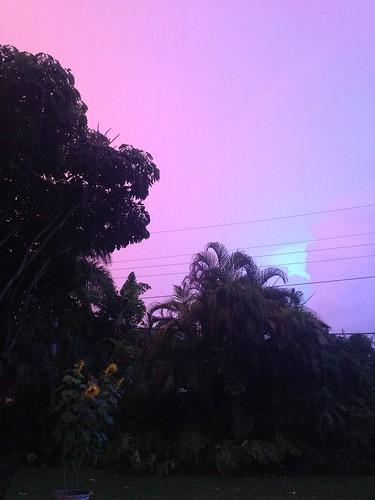sky: (145, 1, 375, 228)
tree: (1, 55, 154, 314)
vegetation: (23, 279, 375, 466)
